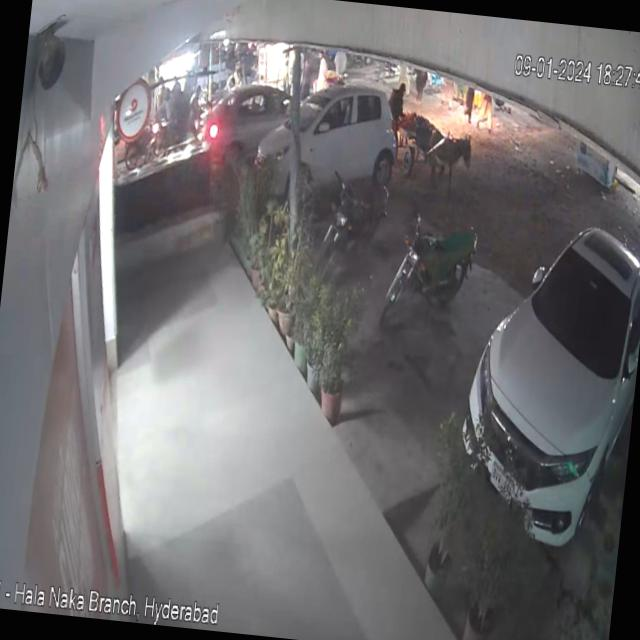Car: (448, 196, 640, 571), (250, 78, 419, 218)
Motorcycle: (364, 196, 482, 340), (308, 158, 391, 278)
